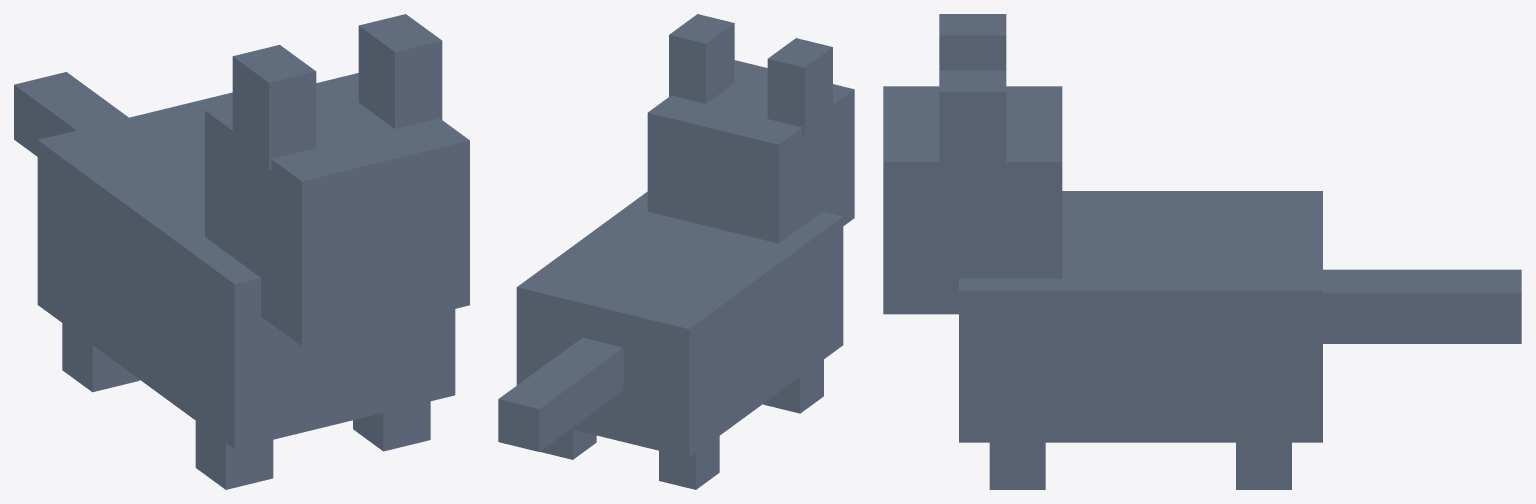
3 renders of one model, left to right at view 1: azimuth 30°, elevation 25°; view 2: azimuth 150°, elevation 25°; view 3: azimuth 270°, elevation 25°, orthographic. The views are drawn at different scales.
Parts seen in each view (by area): view 1: placeholder_cat; view 2: placeholder_cat; view 3: placeholder_cat.
Part boxes in pixels (x1,y1,x2,y2): placeholder_cat: [14, 14, 469, 489]; placeholder_cat: [498, 14, 854, 489]; placeholder_cat: [883, 14, 1521, 489].
Size of the model in its own units: 0.42 by 0.77 by 1.14.
